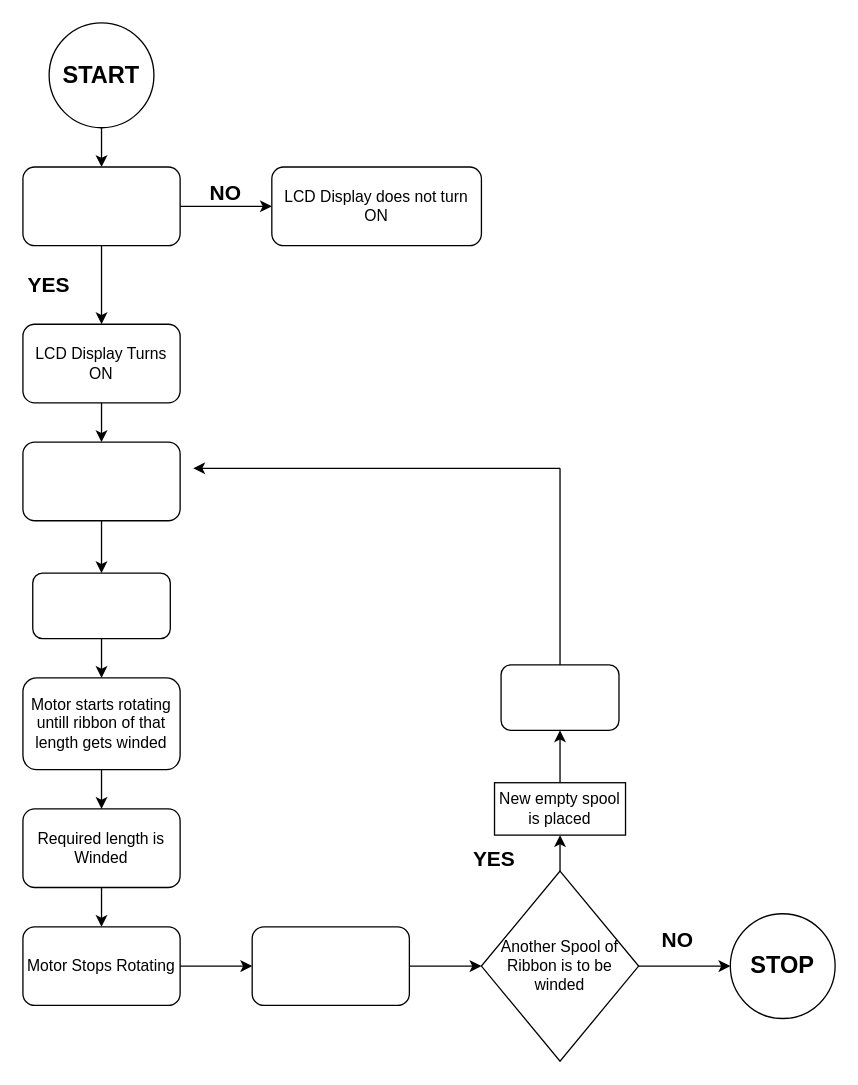
The diagram is 858 pixels wide and 1085 high, and some of its shapes have lost their labels. Here are the shapes that lost their labels. From the top down, the centre of each, then its label:
At point (101, 206): "Electric Power Supply".
At point (101, 481): "User Inputs Length".
At point (100, 605): "START Button is Pressed".
At point (559, 697): "Reset Button is pressed".
At point (330, 965): "Process Completion is Displayed on the LCD".
